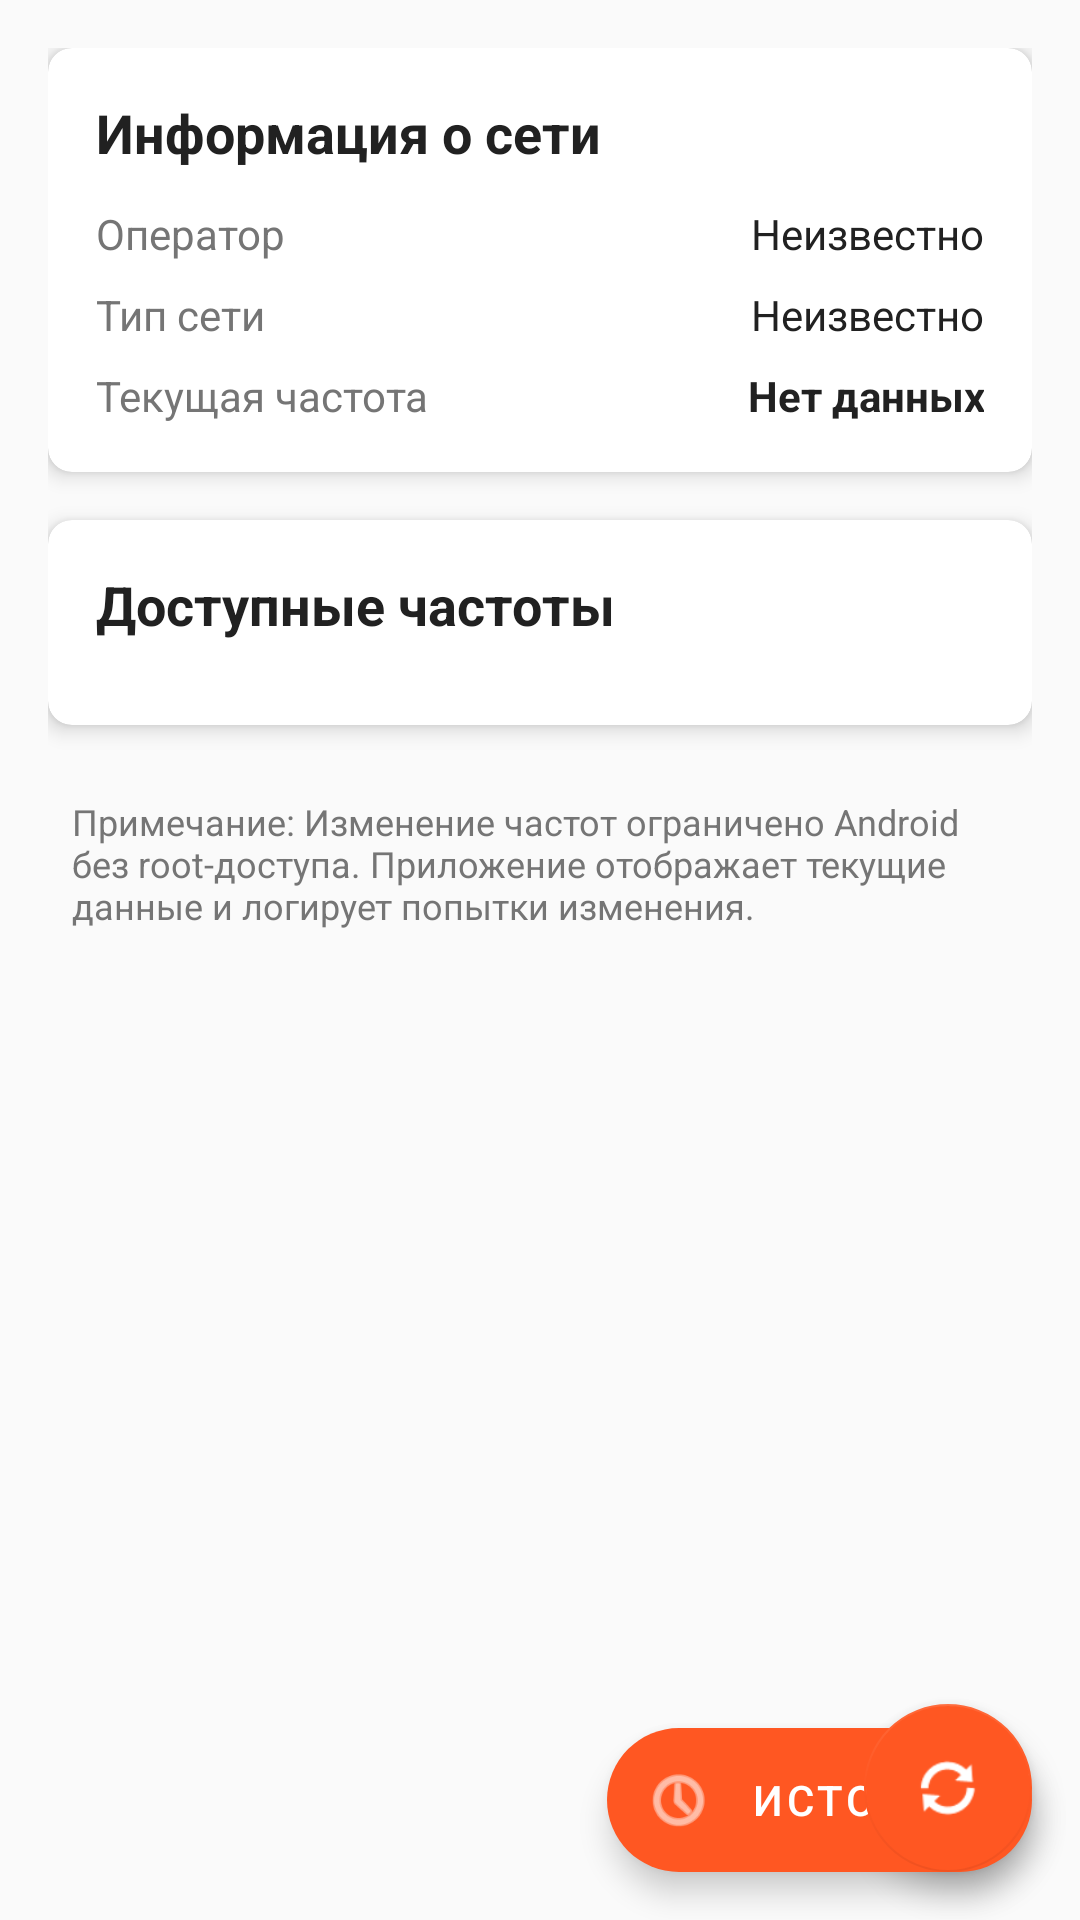

Screen size 1080 × 1920. Icon name, then its center in pixels as point (x, y):
popup sync: point (948, 1788)
